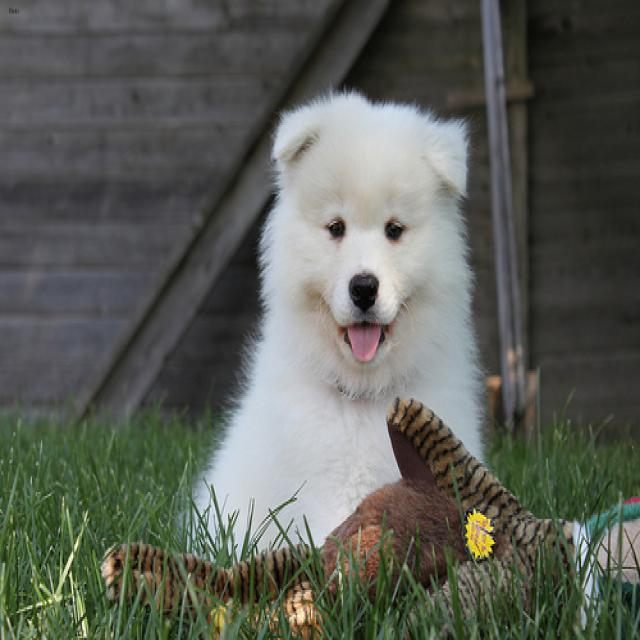dog-samoyed: (166, 77, 495, 569)
